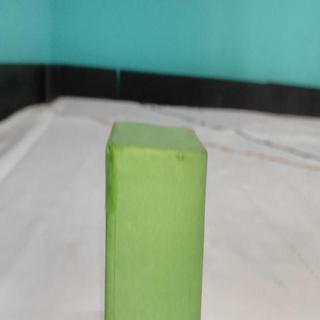greenbox: (103, 117, 209, 320)
